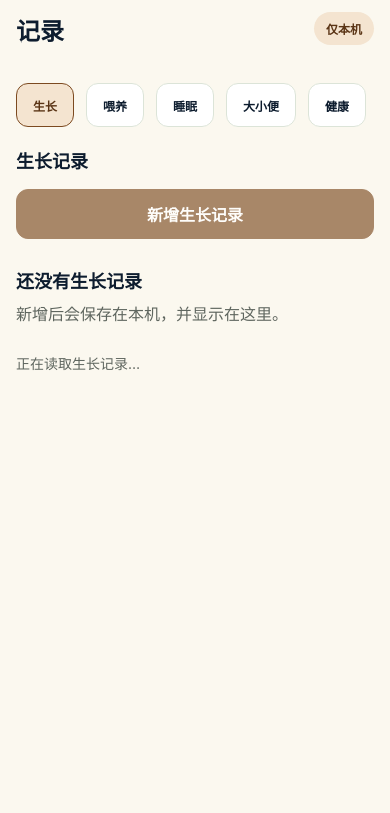
Test case: creates and opens exact feeding editors
The image size is (390, 813).
Expected: the heading "还没有生长记录" is shown, [16,271,142,292]
Click the tab "喂养" at point(115, 105), box [86,83,144,127]
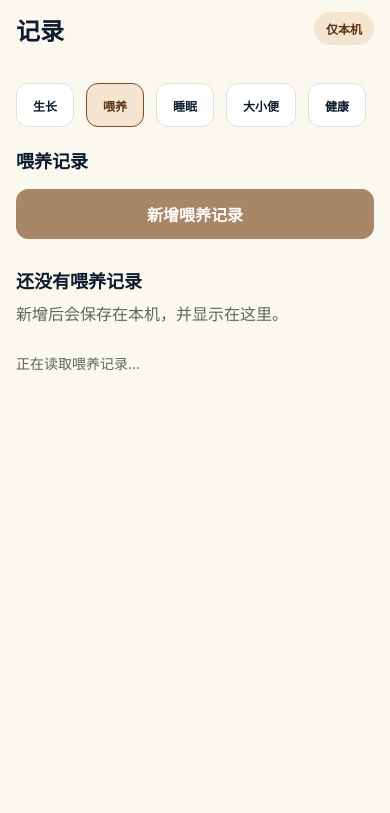
Click the button "新增喂养记录" at point(195, 214), box [16,189,374,239]
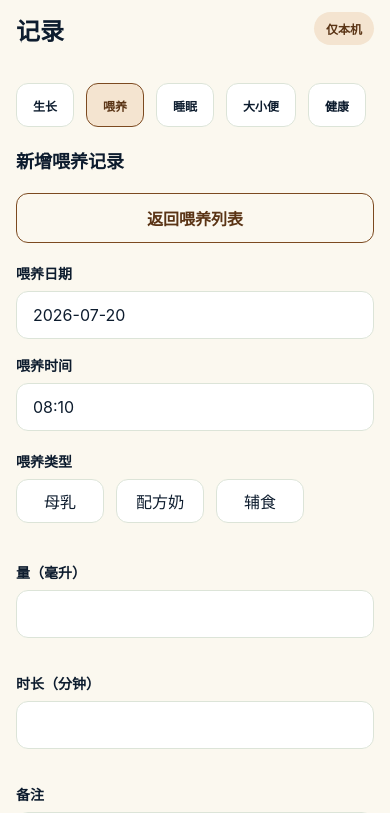
Result: the heading "新增喂养记录" is shown at [16,151,124,172]
Result: the field named "喂养日期" is shown at [16,291,374,339]
